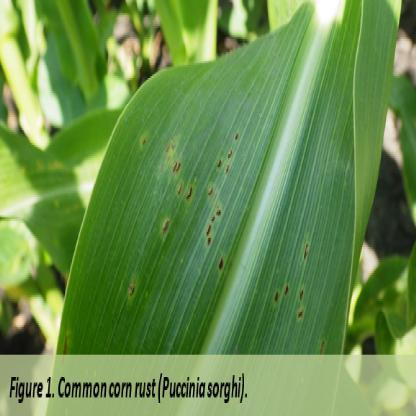Corn rust leaf: (57, 2, 408, 356)
